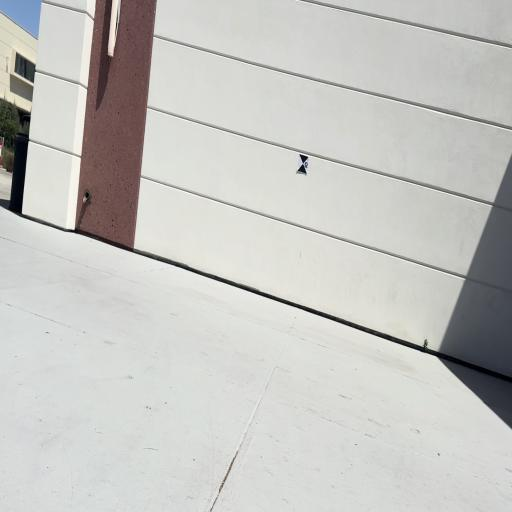target0: (297, 154, 309, 176)
